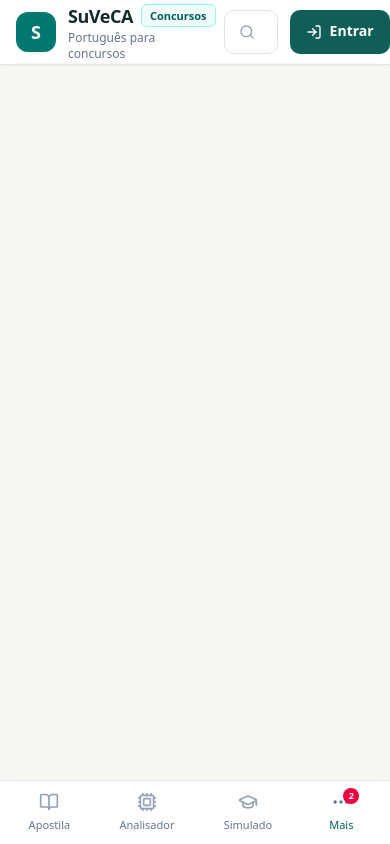
it: Navbar › expõe todas as ferramentas secundárias no painel móvel com alvos de toque
Click the button with aria-label "mais abas".
click(341, 812)  # box [313, 786, 369, 839]
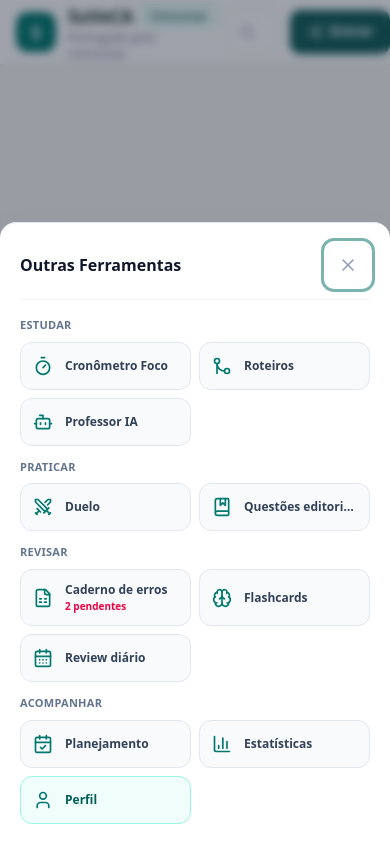
Result: the button "Cronômetro Foco" is shown at [20, 342, 191, 390]
